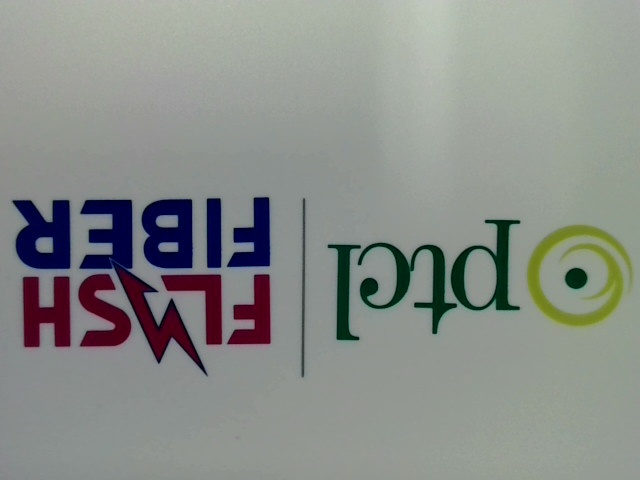BF_PTCL: (326, 208, 634, 344)
